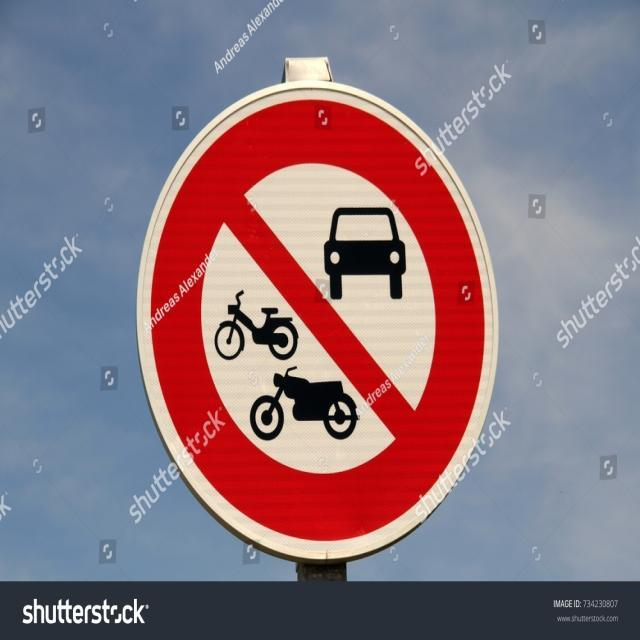all motor vehicle prohibited: (152, 96, 487, 545)
